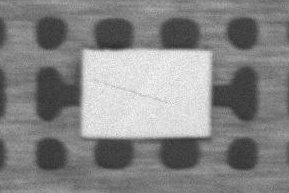DIE_CRACK: (135, 53, 250, 68)
